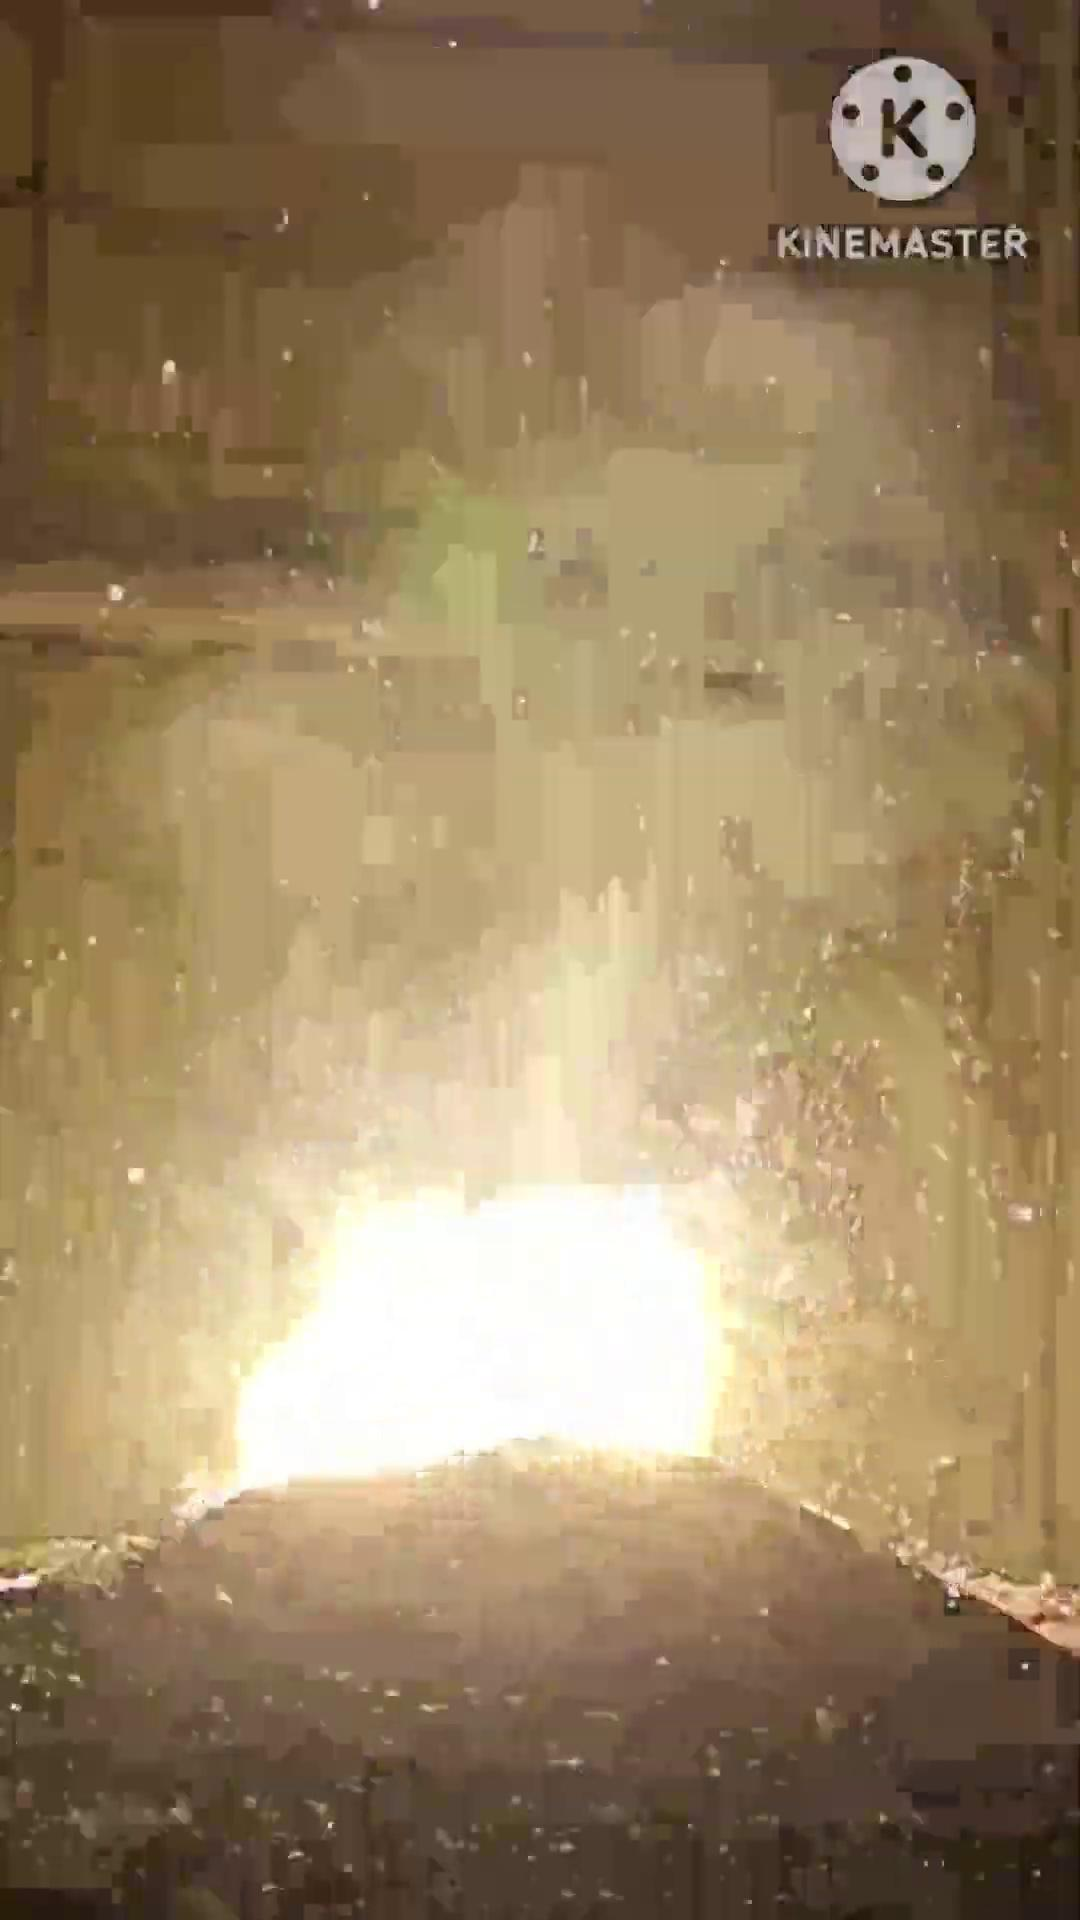fire: (82, 506, 972, 1727)
